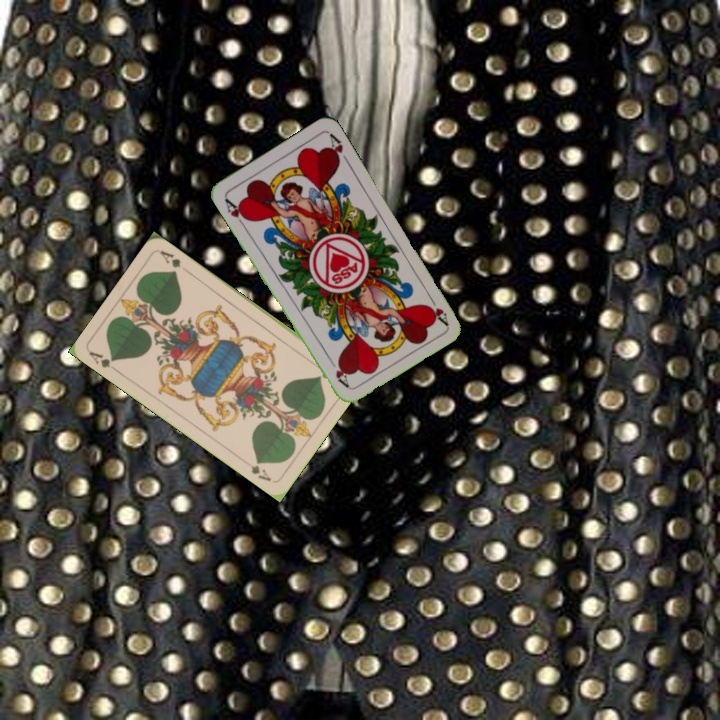GA: (85, 347, 121, 375)
HA: (220, 194, 251, 230), (423, 290, 451, 327)
